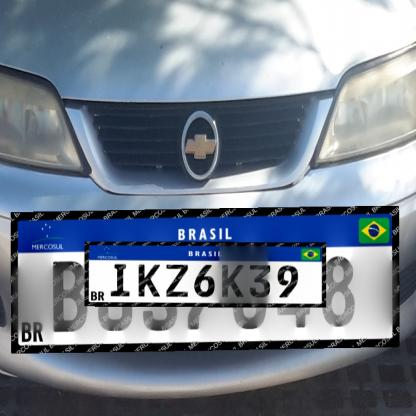PlacaM: (11, 206, 400, 353), (85, 242, 326, 308)
